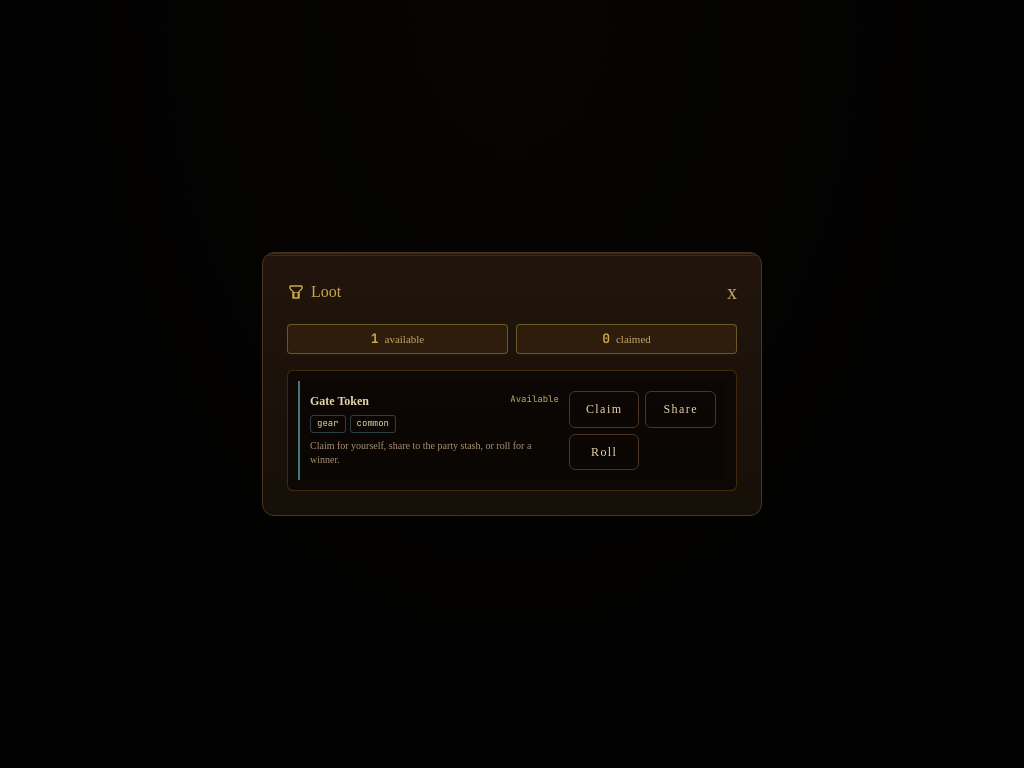
Test: LootModal › rolls item loot across the party and shows the winner
Click the button with aria-label "Roll Gate Token" at (604, 452), box [569,434,639,470]
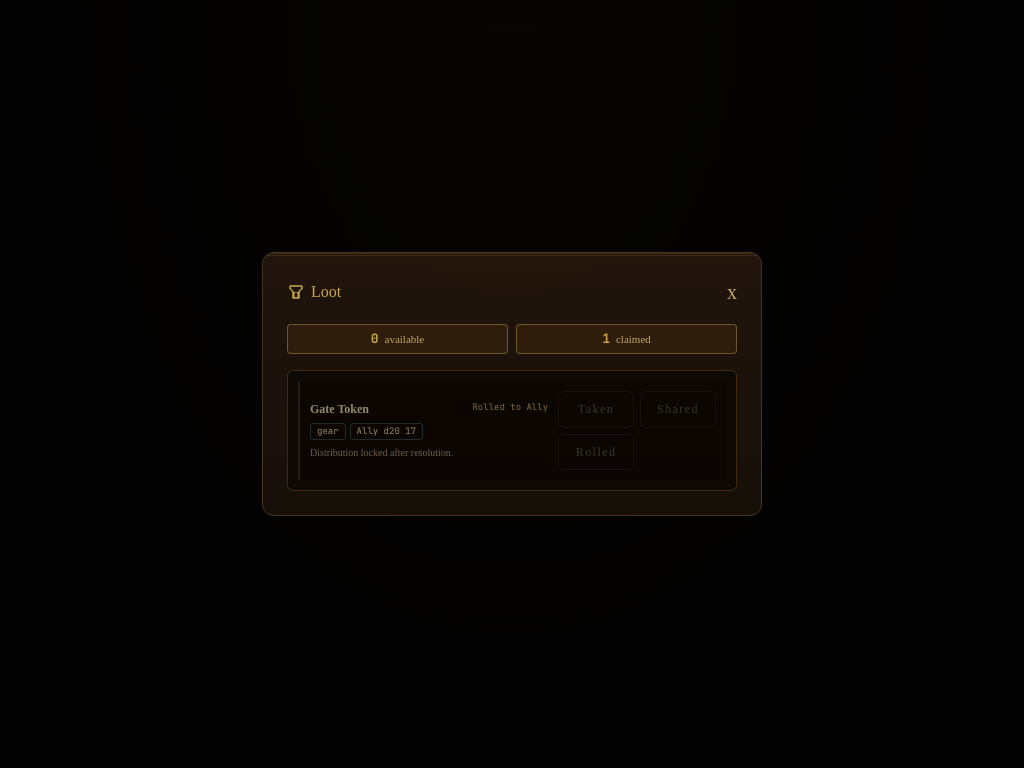
Check: the text "Rolled to Ally" is shown, box [472,400,548,417]
Check: the text "Ally d20 17" is shown, box [350,423,423,440]
Check: the button with aria-label "Roll Gate Token" is disabled, box [558,434,634,470]
